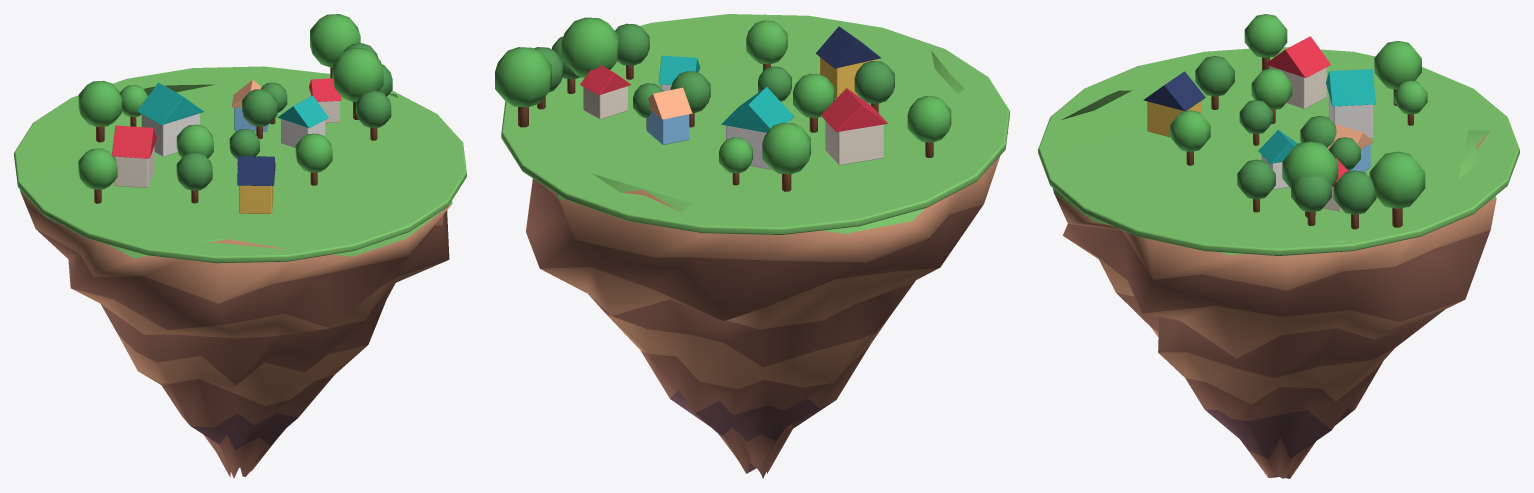
The model's file is sky_far_isle.glb.
3 renders of one model, left to right at view 1: azimuth 30°, elevation 25°; view 2: azimuth 150°, elevation 25°; view 3: azimuth 270°, elevation 25°, orthographic. The views are drawn at different scales.
Visible parts, largest first — view 1: FarIsle; view 2: FarIsle; view 3: FarIsle.
Part boxes in pixels (x1,y1,x2,y2): FarIsle: [14, 14, 466, 478]; FarIsle: [495, 14, 1009, 478]; FarIsle: [1038, 14, 1519, 478].
Size of the model in its own units: 36 by 33.52 by 36.
